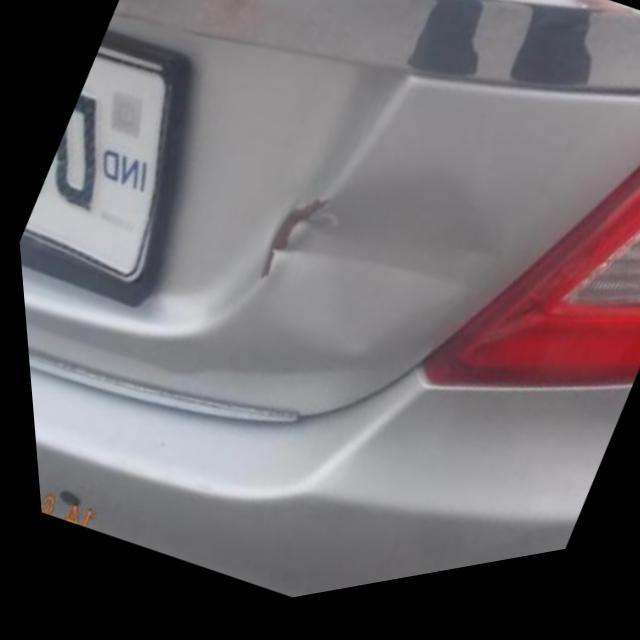dent: (255, 199, 488, 366)
